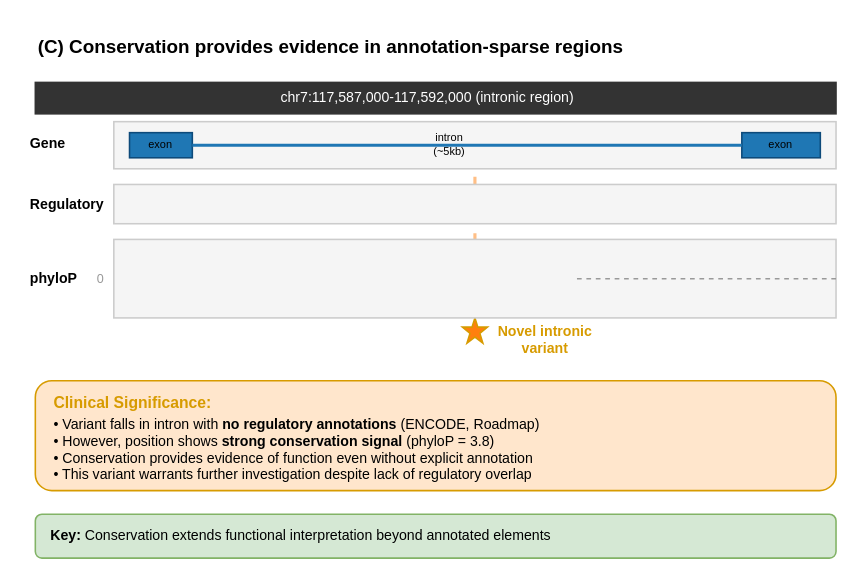
Some shapes in this 865 by 586 pixel diagram are drawn without their labels. The shapes that lost their labels are listed below. From the top down, each one's centre as x and y in pixels, then its label:
At (x=474, y=203): "No regulatory annotations".
At (x=474, y=278): "INSERT BAR CHART".
